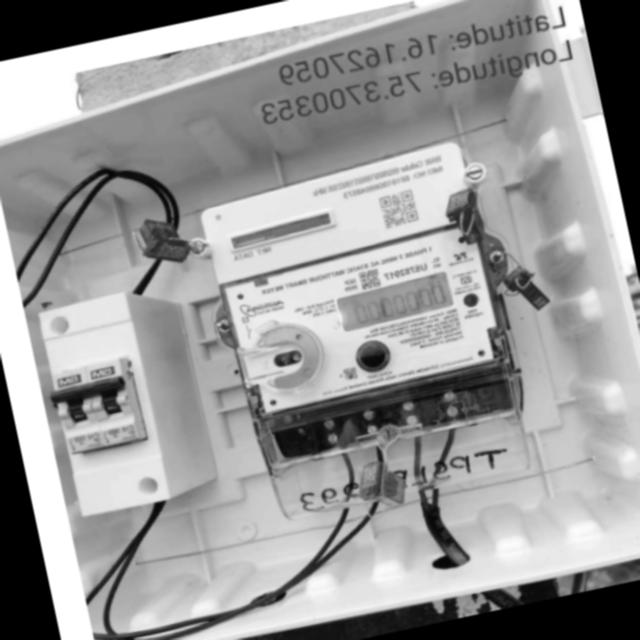meter: (200, 146, 506, 418)
